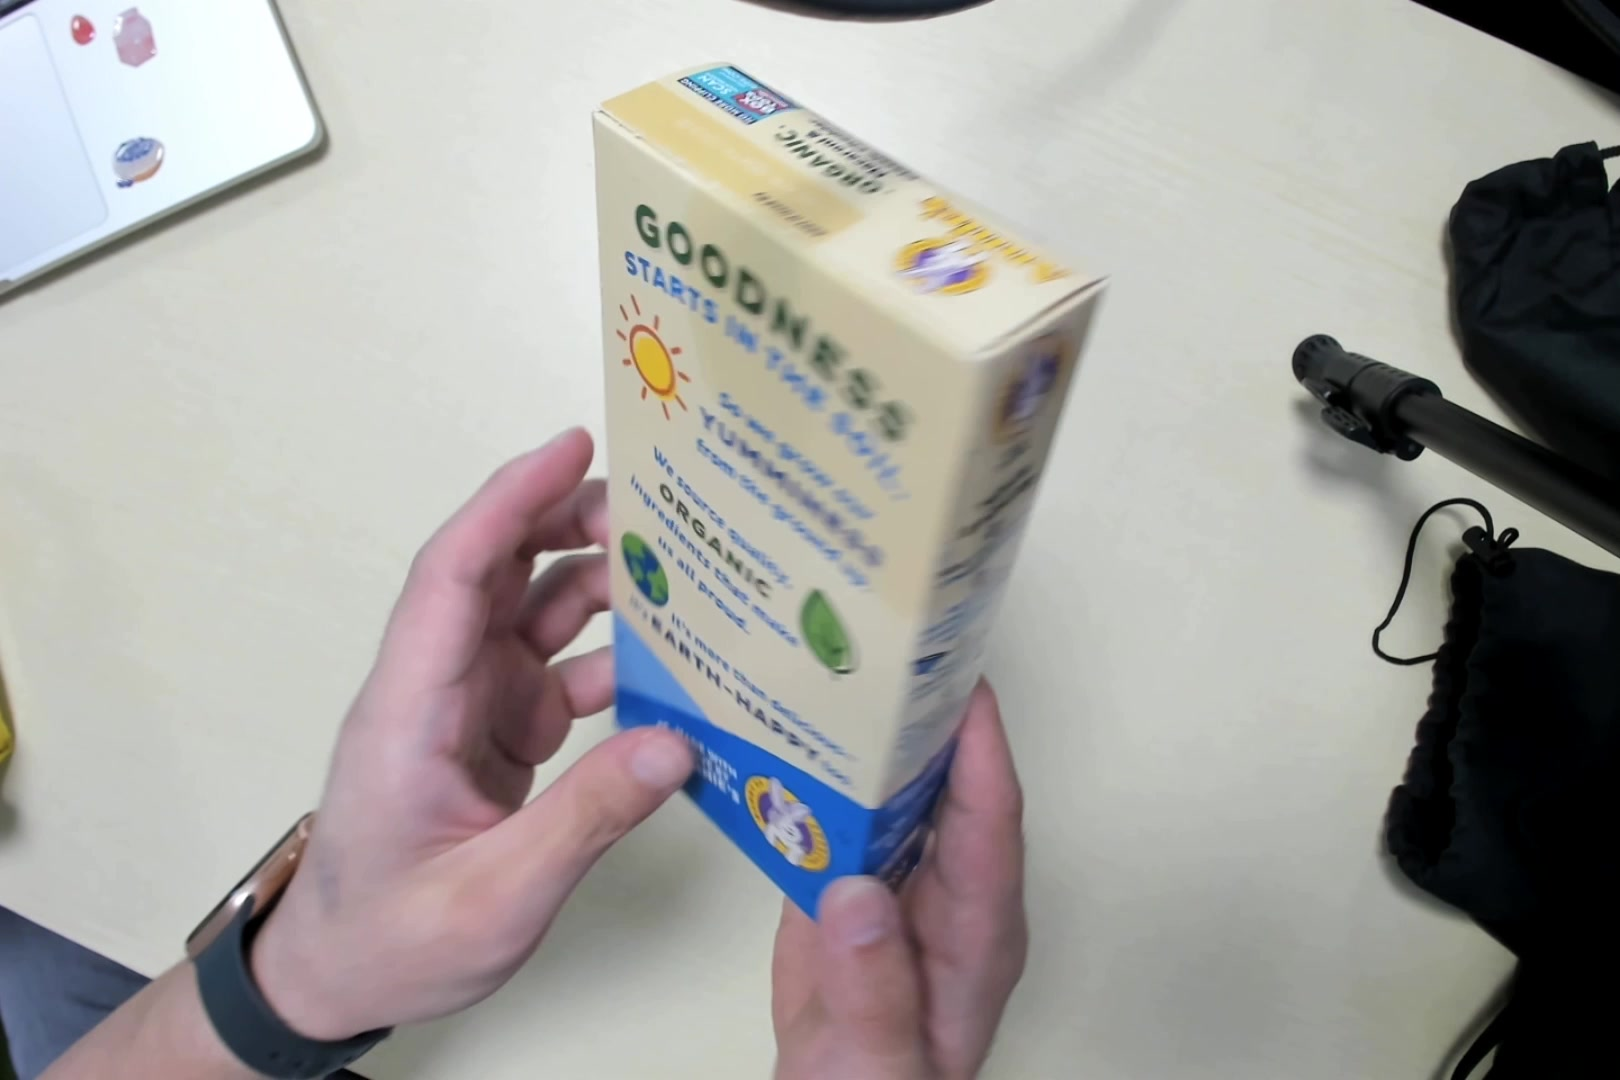InstantMeals_200-299g_NonHalal_NonHealthy: (579, 48, 1111, 946)
